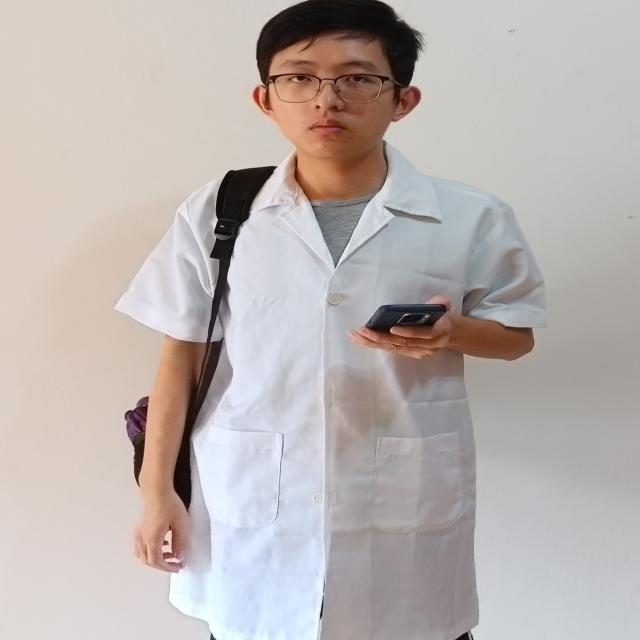person_with_labcoat: (116, 0, 546, 640)
